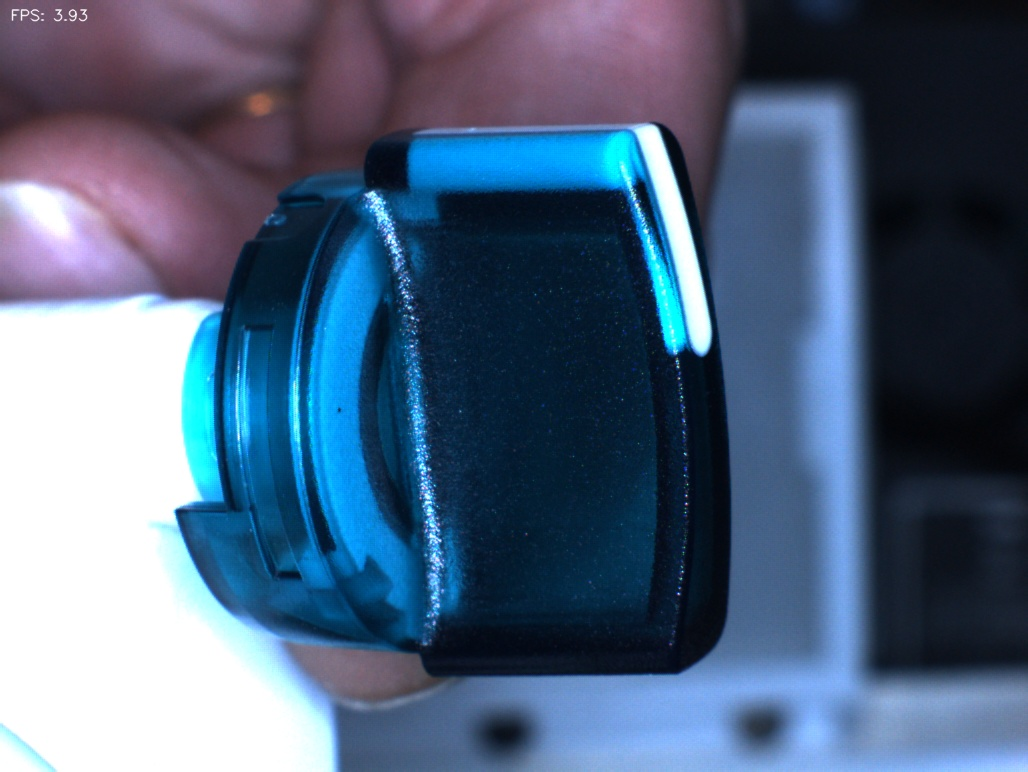PointNoir: (305, 374, 374, 444)
